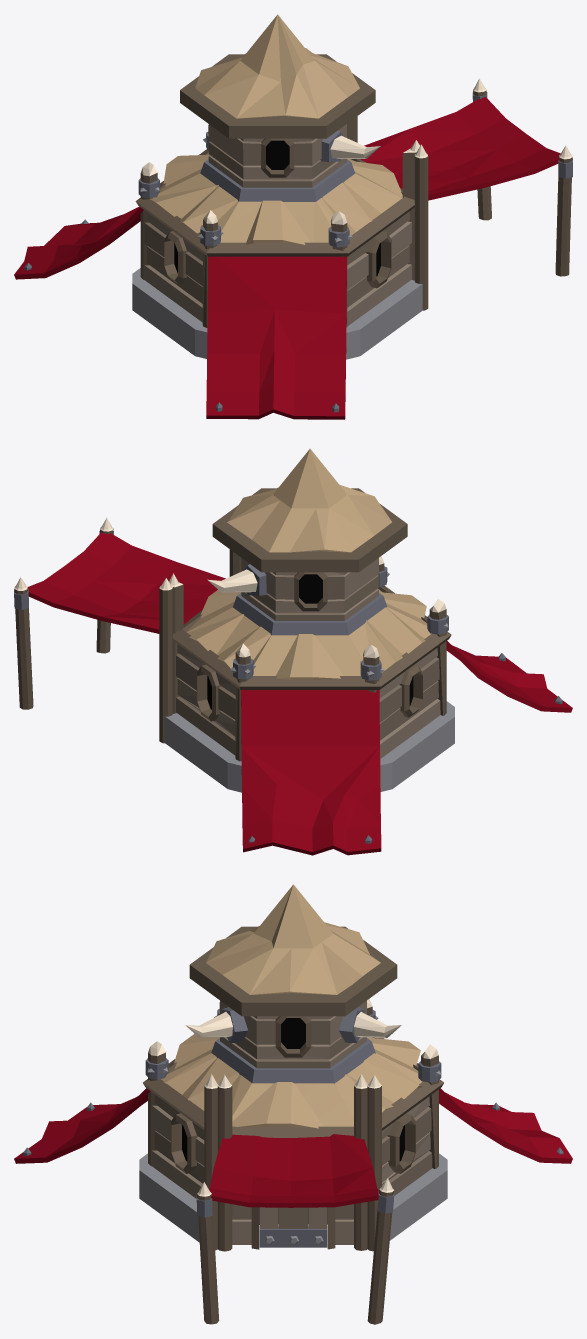
Rendered from tanner)hut.fbx.
The picture shows the model from 3 angles, top to bottom: view 1: azimuth 30°, elevation 25°; view 2: azimuth 150°, elevation 25°; view 3: azimuth 270°, elevation 25°; orthographic projection. The views are drawn at different scales.
Parts seen in each view (by area): view 1: tunners_hut; view 2: tunners_hut; view 3: tunners_hut.
Boxes of the visible parts, <box> form: tunners_hut: <box>14,14,572,419</box>; tunners_hut: <box>14,448,572,855</box>; tunners_hut: <box>14,884,572,1324</box>.
Size of the model in its own units: 1780 by 1191 by 1928.
